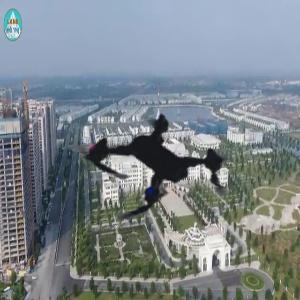drone: (22, 26, 295, 299)
